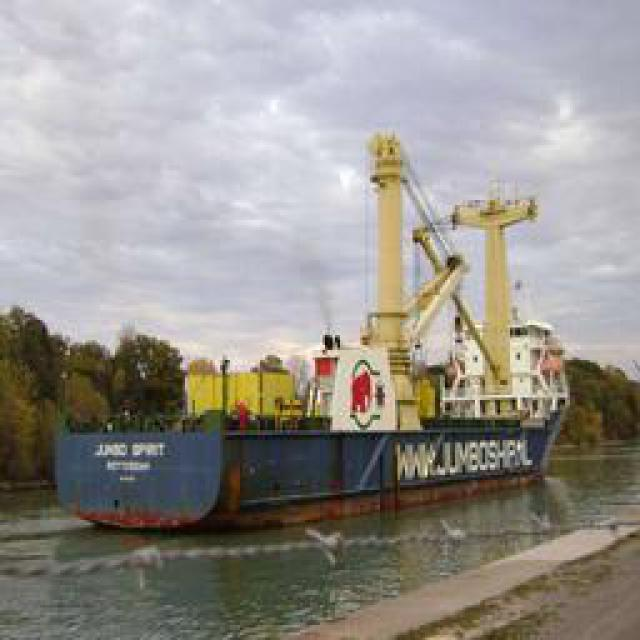Ship: (60, 121, 575, 536)
